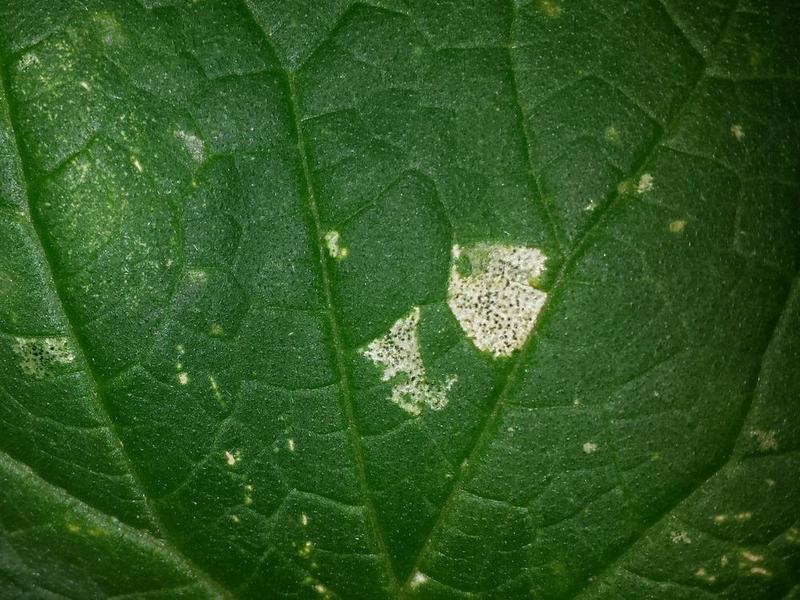Thrips: (318, 226, 583, 426)
